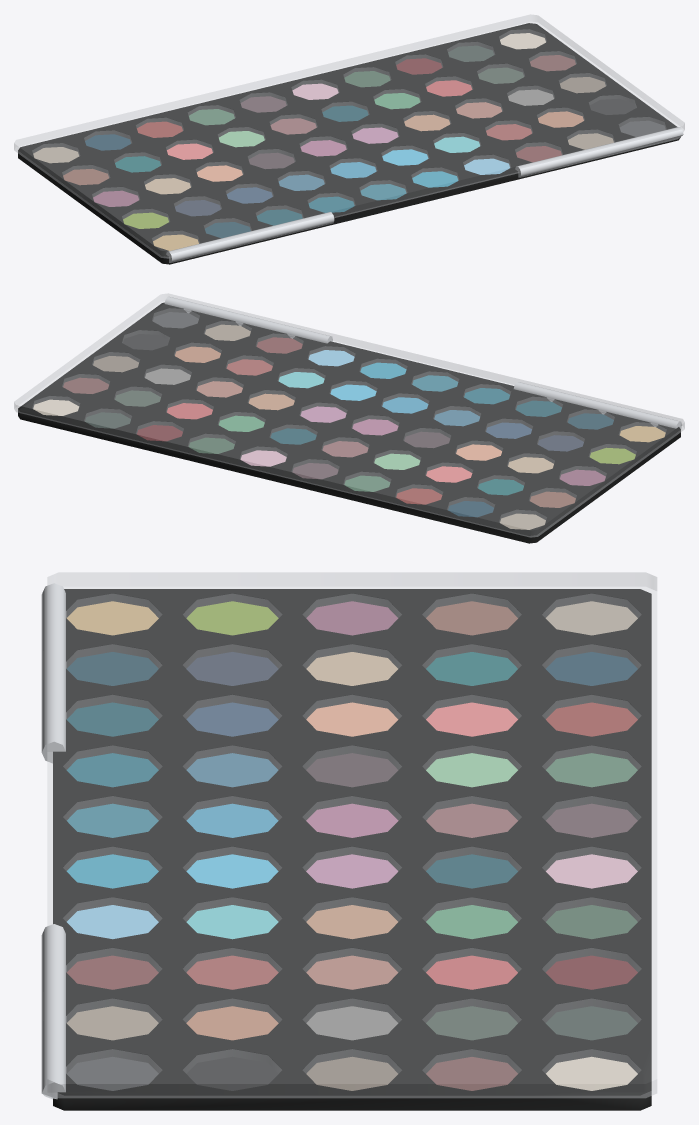
Rendered from make_up_pallete_007.fbx.
3 renders of one model, top to bottom at view 1: azimuth 30°, elevation 25°; view 2: azimuth 150°, elevation 25°; view 3: azimuth 270°, elevation 25°, orthographic. The views are drawn at different scales.
Visible parts, largest first — view 1: make up_pallete_cover.007, make up_pallete.007; view 2: make up_pallete.007, make up_pallete_cover.007; view 3: make up_pallete_cover.007, make up_pallete.007.
Part boxes in pixels (bbox=[...]): make up_pallete_cover.007: bbox=[14, 14, 684, 258]; make up_pallete.007: bbox=[18, 23, 683, 264]; make up_pallete.007: bbox=[18, 296, 681, 543]; make up_pallete_cover.007: bbox=[14, 293, 684, 537]; make up_pallete_cover.007: bbox=[47, 572, 656, 1097]; make up_pallete.007: bbox=[41, 583, 651, 1110].
Size of the model in its own units: 4643 by 125 by 2360.
Materials: 2 (2 with a texture image).
